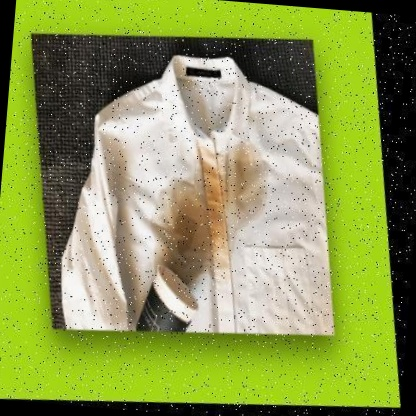coffee: (165, 200, 209, 272), (212, 167, 261, 214)
